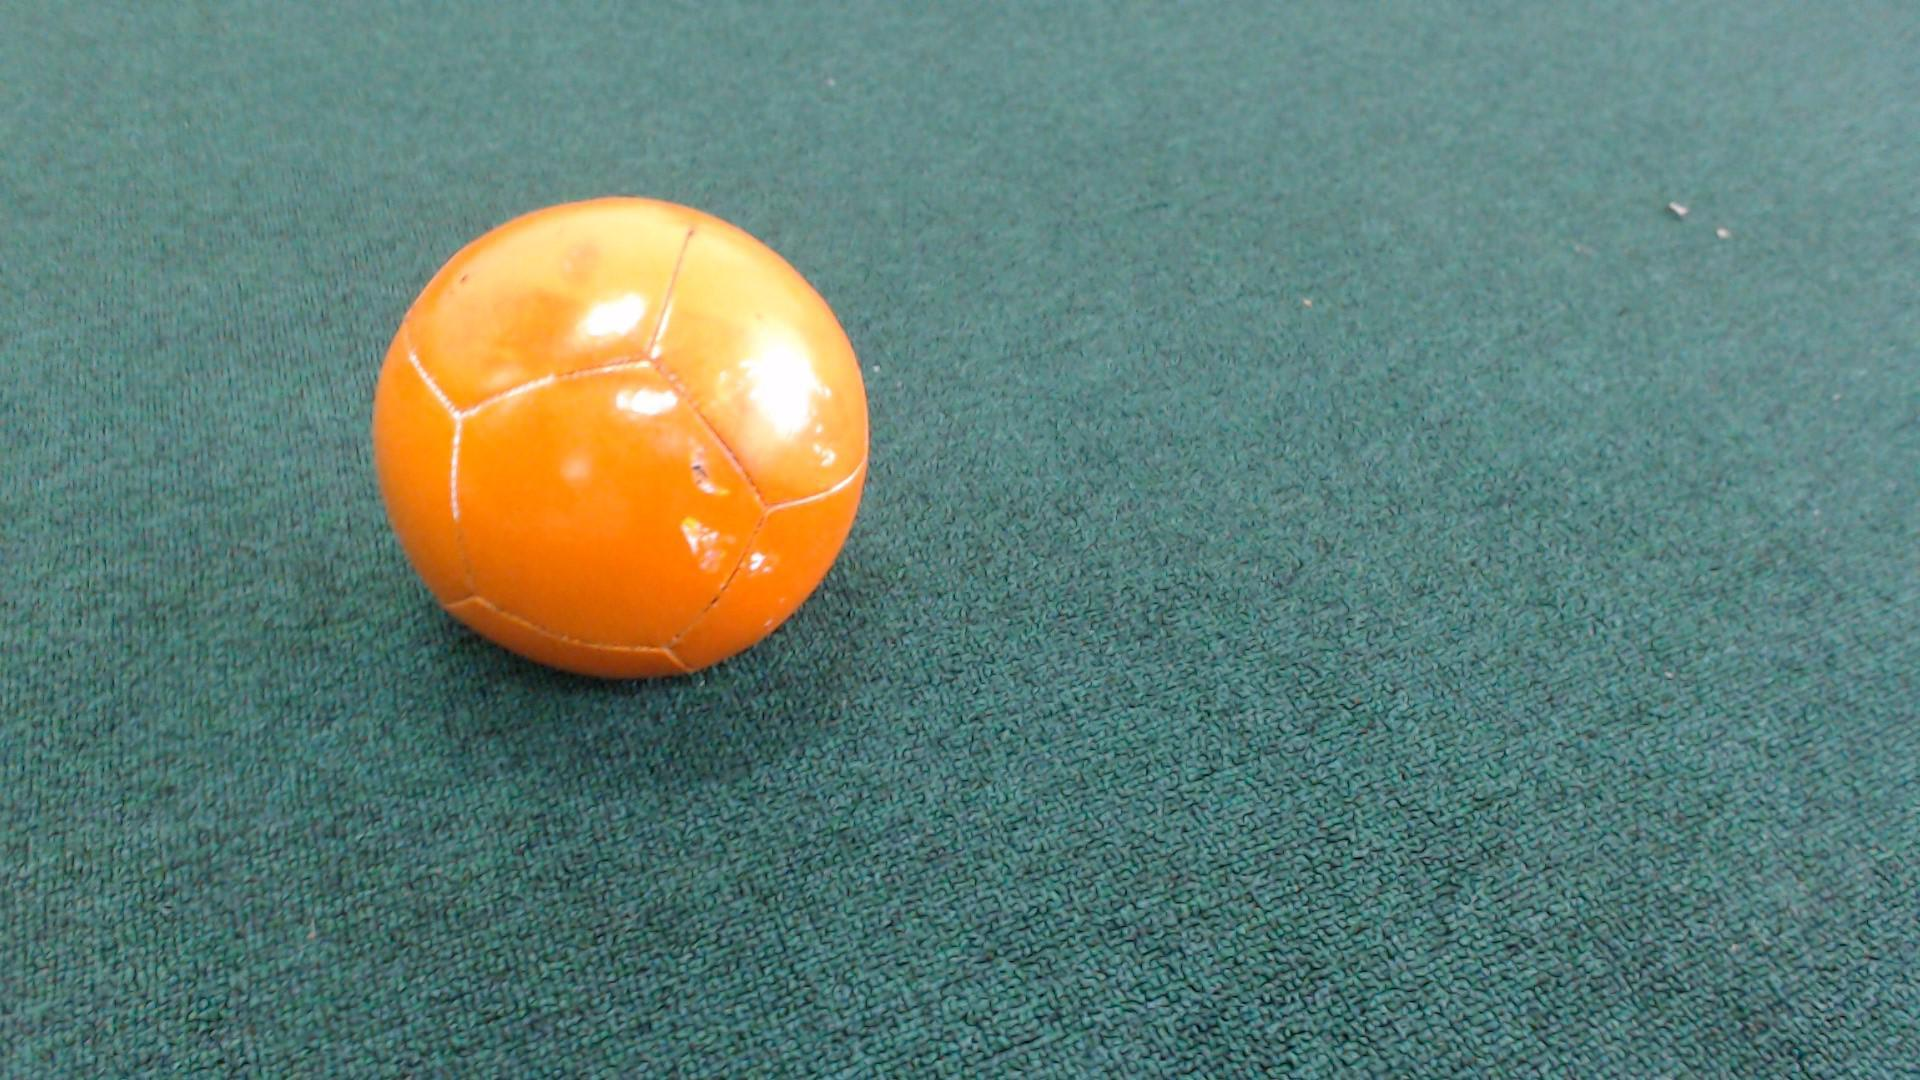bola: (348, 162, 903, 720)
